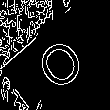O_NW: (25, 22, 85, 88)
